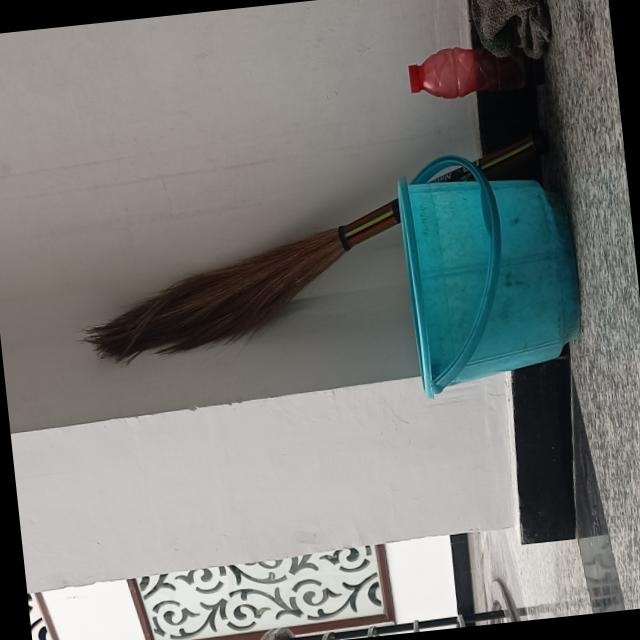plastic_box: (345, 147, 617, 413)
